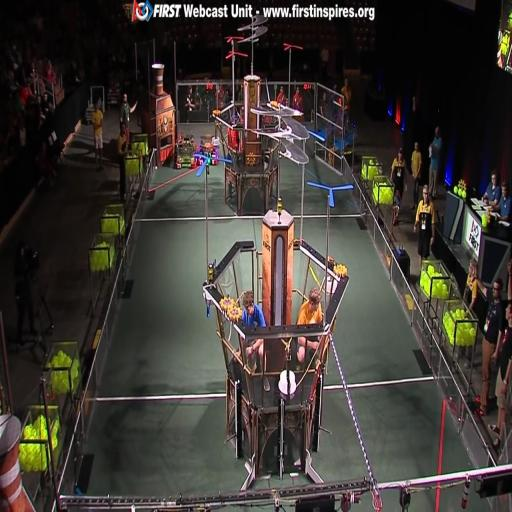robot: (174, 131, 198, 171), (198, 134, 219, 165)
